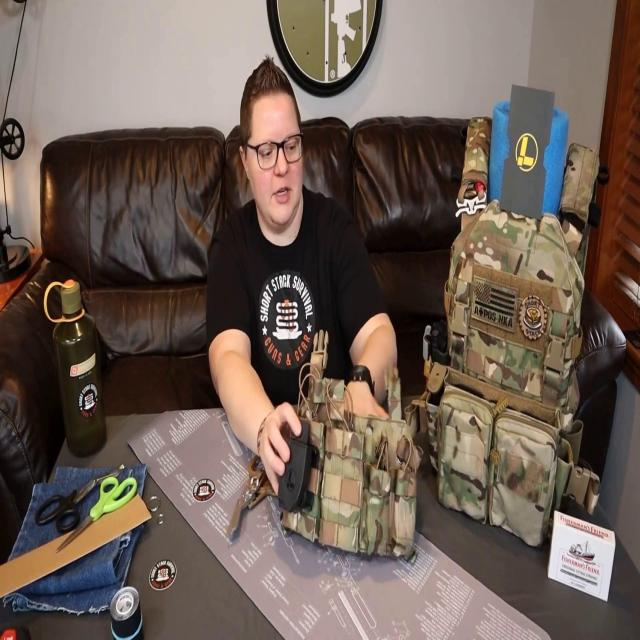scissor: (55, 475, 137, 553), (35, 469, 119, 533), (226, 455, 277, 535)
